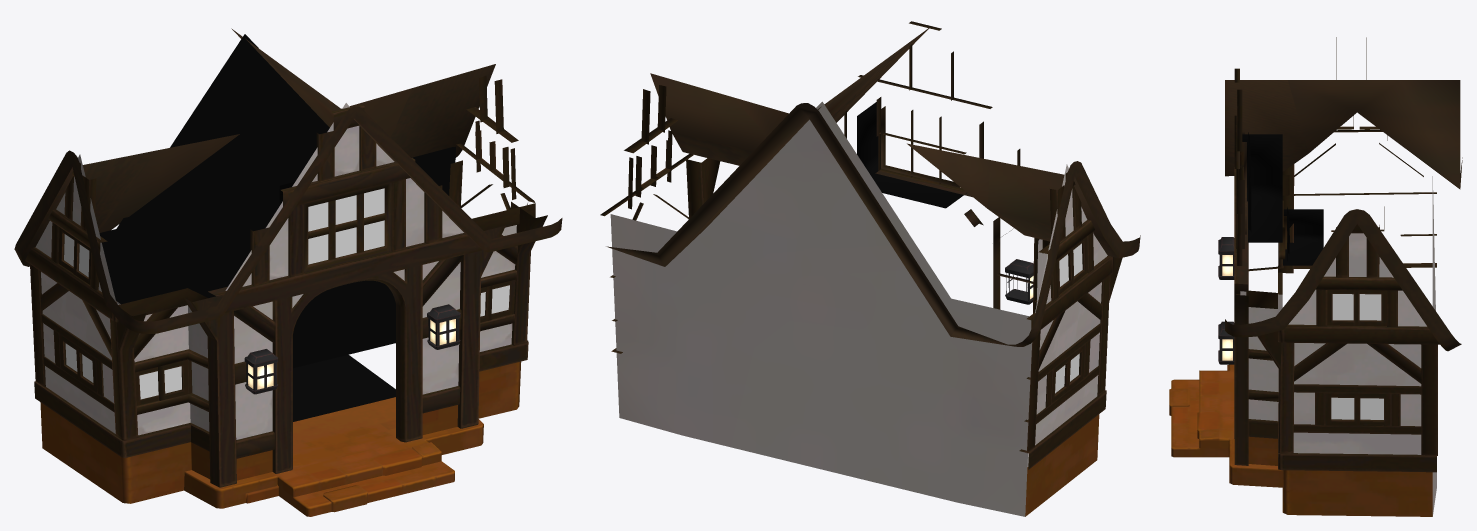
Rendered from chalet-wall-a.glb.
3 views of the same model, side by side, from view 1: azimuth 30°, elevation 25°; view 2: azimuth 150°, elevation 25°; view 3: azimuth 270°, elevation 25° (orthographic). The views are drawn at different scales.
Parts seen in each view (by area): view 1: Brick00__mWallA, Wood00_low__mWallB, BrickBack__mHouseInner, WindowGlass00__mWindowGlass, LampDownL__mLamp, SideWindow01__mSideWindow; view 2: Brick00__mWallA, Wood00_low__mWallB, HouseInnerL__mHouseInner, SideWindow01__mSideWindow, LampDownL__mLamp; view 3: Brick00__mWallA, Wood00_low__mWallB, HouseInnerL__mHouseInner, SideWindow01__mSideWindow, LampDownL__mLamp, CL__mCurtain.
Boxes of the visible parts, x1,y1,x2,y2 form: Brick00__mWallA: [14, 28, 562, 516]; Wood00_low__mWallB: [25, 76, 547, 487]; BrickBack__mHouseInner: [99, 34, 455, 421]; WindowGlass00__mWindowGlass: [139, 188, 509, 399]; LampDownL__mLamp: [244, 304, 460, 394]; SideWindow01__mSideWindow: [64, 234, 93, 382]; Brick00__mWallA: [606, 28, 1140, 516]; Wood00_low__mWallB: [600, 21, 1122, 469]; HouseInnerL__mHouseInner: [857, 102, 966, 208]; SideWindow01__mSideWindow: [1055, 243, 1082, 393]; LampDownL__mLamp: [1005, 259, 1033, 304]; Brick00__mWallA: [1169, 80, 1462, 516]; Wood00_low__mWallB: [1234, 37, 1439, 472]; HouseInnerL__mHouseInner: [1242, 134, 1323, 265]; SideWindow01__mSideWindow: [1331, 294, 1383, 419]; LampDownL__mLamp: [1218, 237, 1234, 364]; CL__mCurtain: [1248, 132, 1289, 261].
Size of the model in its own units: 48.63 by 39.51 by 29.5.
Materials: 7 (3 with a texture image).
